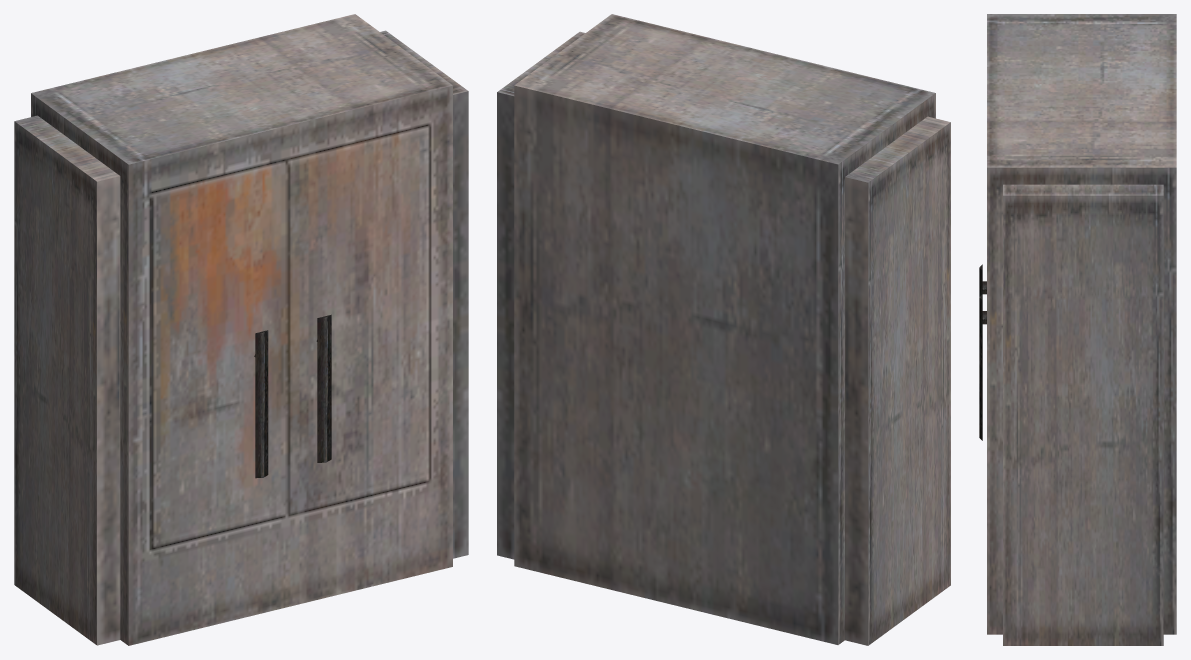
The model's file is frn_all_chep_armoire_s01.fbx.
The picture shows the model from 3 angles, left to right: view 1: azimuth 30°, elevation 25°; view 2: azimuth 150°, elevation 25°; view 3: azimuth 270°, elevation 25°; orthographic projection. The views are drawn at different scales.
Visible parts, largest first — view 1: mesh_node; view 2: mesh_node; view 3: mesh_node.
Part boxes in pixels (box(x1,y1,x2,y2)): mesh_node: box(14, 14, 468, 645); mesh_node: box(497, 14, 950, 645); mesh_node: box(979, 14, 1176, 645).
Size of the model in its own units: 1.46 by 1.8 by 0.6904.
1 material, 1 textured.
